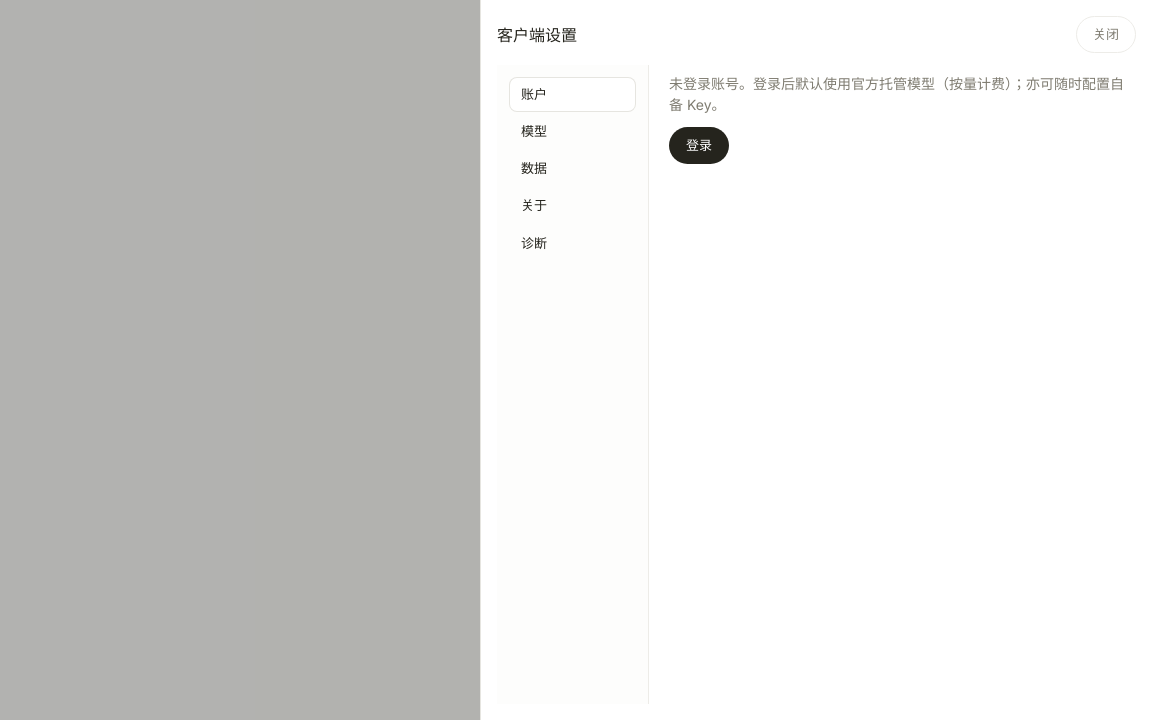
Scenario: DesktopSettingsDrawer › 模型 section shows 官方托管模型（按量计费） with the pinned relay models when signed in
Click the button "模型" at {"x": 572, "y": 132}, box [509,114,636,150]
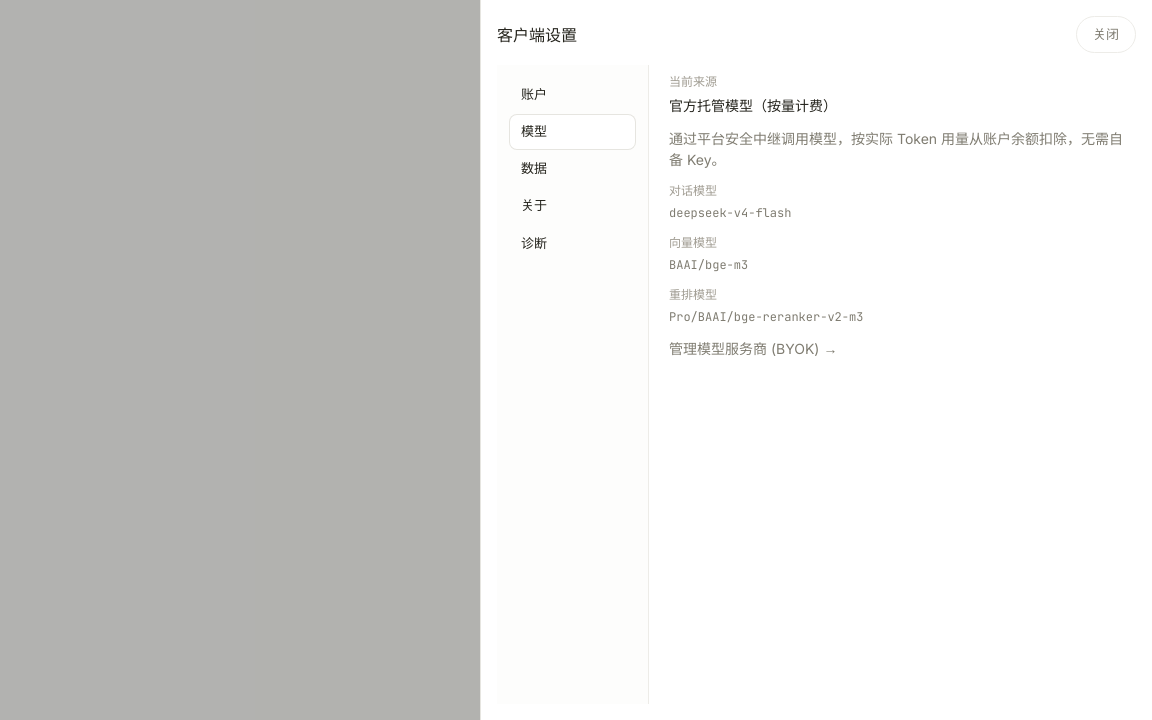
Now the text "deepseek-v4-flash" is shown, box [669,205,791,221]
Now the text "BAAI/bge-m3" is shown, box [669,257,748,273]
Now the link "管理模型服务商 (BYOK) →" is shown, box [669,340,837,357]
